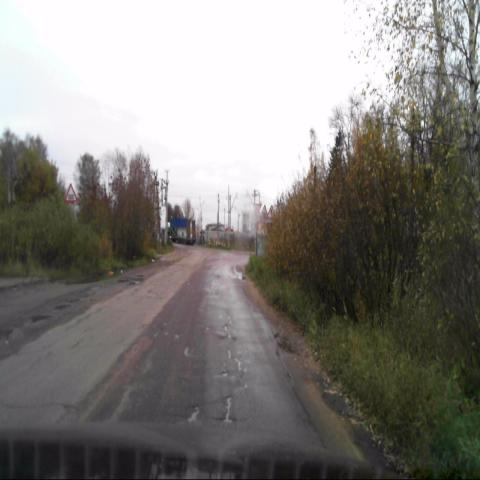1_1: (64, 182, 78, 203)
